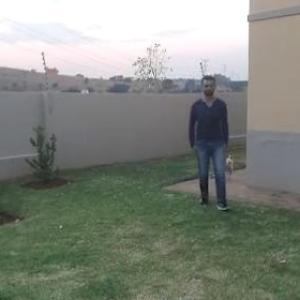follow: (192, 71, 237, 215)
